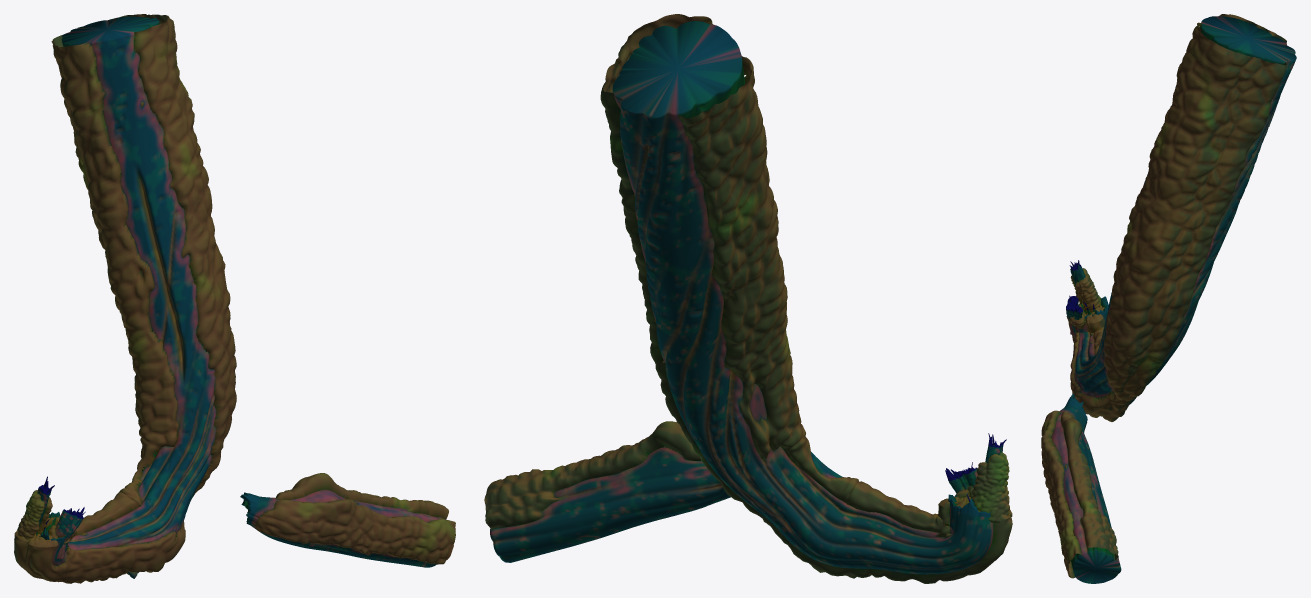
File: branch.glb
3 renders of one model, left to right at view 1: azimuth 30°, elevation 25°; view 2: azimuth 150°, elevation 25°; view 3: azimuth 270°, elevation 25°, orthographic. The views are drawn at different scales.
Parts seen in each view (by area): view 1: moss_branch_j, wood_branch_j, moss_branch_frag, wood_branch_frag, wood_branch_stumps; view 2: wood_branch_j, moss_branch_j, wood_branch_frag, moss_branch_frag, wood_branch_stumps; view 3: moss_branch_j, wood_branch_j, moss_branch_frag, wood_branch_frag, wood_branch_stumps.
Part boxes in pixels (x1,y1,x2,y2): moss_branch_j: [14, 14, 236, 583]; wood_branch_j: [36, 16, 217, 578]; moss_branch_frag: [255, 473, 455, 564]; wood_branch_frag: [240, 489, 446, 567]; wood_branch_stumps: [37, 476, 85, 559]; wood_branch_j: [612, 21, 993, 574]; moss_branch_j: [600, 14, 1012, 583]; wood_branch_frag: [490, 444, 730, 562]; moss_branch_frag: [484, 421, 702, 530]; wood_branch_stumps: [945, 433, 1006, 501]; moss_branch_j: [1066, 14, 1286, 421]; wood_branch_j: [1072, 16, 1296, 404]; moss_branch_frag: [1041, 410, 1118, 578]; wood_branch_frag: [1051, 393, 1121, 583]; wood_branch_stumps: [1066, 260, 1094, 336].
Size of the model in its own units: 2.28 by 2.75 by 1.36.
